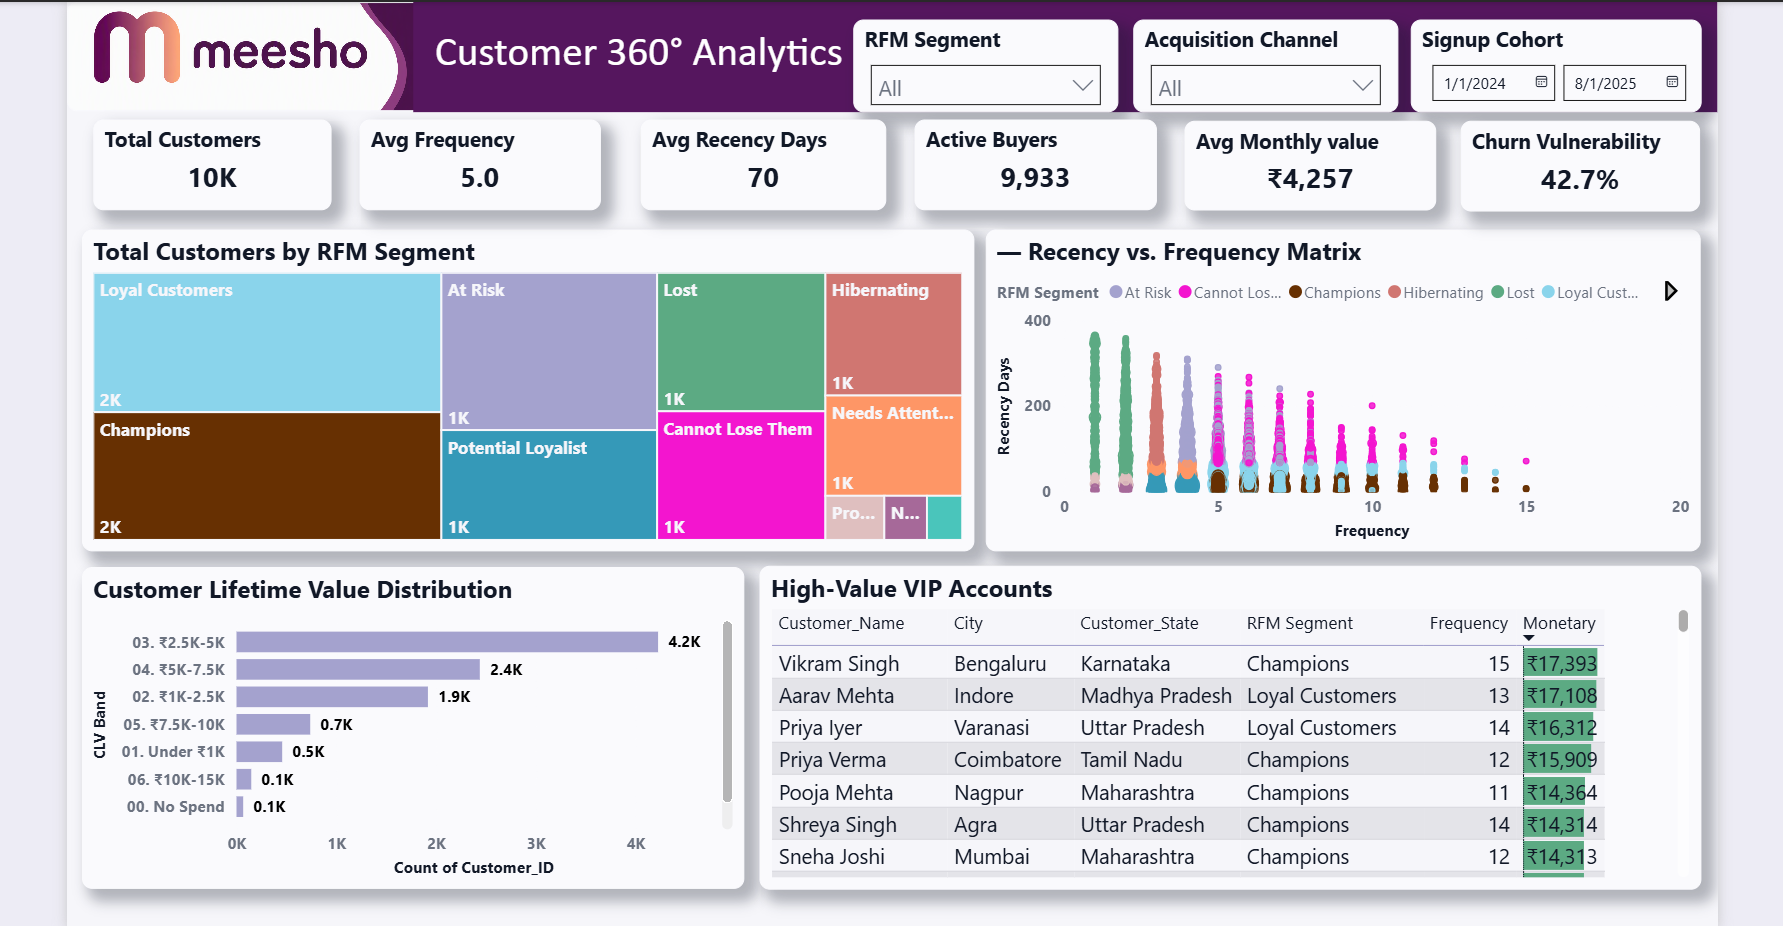

What the dashboard file says about the page in this screenshot:
{"tool":"powerbi","page":{"name":"Customer 360° Analytics","canvas":[1280,720],"ordinal":1},"visuals":[{"type":"image","box":[0,0,280.4,85.1],"z":0},{"type":"shape","box":[268.9,0,1011.3,85.4],"z":1000},{"type":"textbox","box":[280.5,13.7,329,54.8],"z":2000},{"type":"slicer","title":"RFM Segment","fields":{"Values":["meesho_customers.RFM Segment"]},"box":[609.5,13.7,205.6,71.7],"z":3000},{"type":"slicer","title":"Acquisition Channel","fields":{"Values":["meesho_customers.Acquisition_Channel"]},"box":[826.7,13.7,205.6,71.7],"z":4000},{"type":"slicer","title":"Signup Cohort","fields":{"Values":["meesho_customers.Signup Cohort"]},"box":[1041.8,13.7,225.7,71.7],"z":5000},{"type":"card","title":"Total Customers","fields":{"Values":["Metrics.Total Customers"]},"box":[20.4,91.1,184.6,70.7],"z":6000},{"type":"card","title":"Active Buyers","fields":{"Values":["Metrics.Active Buyers"]},"box":[656.8,91.1,188.2,70.7],"z":7000},{"type":"card","title":"Avg Monthly value","fields":{"Values":["Metrics.Average Monetary Value"]},"box":[866.5,92.3,195.4,69.5],"z":8000},{"type":"treemap","fields":{"Group":["meesho_customers.RFM Segment"],"Values":["Metrics.Total Customers"]},"box":[11.6,176.1,691.7,249.9],"z":9000},{"type":"scatterChart","title":"— Recency vs. Frequency Matrix","fields":{"X":["meesho_customers.Frequency"],"Y":["meesho_customers.Recency Days"],"Series":["meesho_customers.RFM Segment"],"Size":["CountNonNull(meesho_customers.Customer_ID)"]},"box":[712.8,176.1,554.7,249.9],"z":10000},{"type":"clusteredBarChart","title":"Customer Lifetime Value Distribution","fields":{"Y":["CountNonNull(meesho_customers.Customer_ID)"],"Category":["meesho_customers.CLV Band"]},"box":[11.5,438.6,513.6,249.6],"z":11000},{"type":"tableEx","title":"High-Value VIP Accounts","fields":{"Values":["meesho_customers.Customer_Name","meesho_customers.City","meesho_customers.Customer_State","meesho_customers.RFM Segment","meesho_customers.Frequency","meesho_customers.Monetary"]},"box":[536.7,437.2,730,251],"z":12000},{"type":"card","title":"Avg Recency  Days","fields":{"Values":["Metrics.Avg Recency Days"]},"box":[444.6,91.1,190.6,70.7],"z":13000},{"type":"card","title":"Churn Vulnerability","fields":{"Values":["Metrics.Churn Vulnerability %"]},"box":[1081,92.3,185.8,70.7],"z":14000},{"type":"card","title":"Avg Frequency","fields":{"Values":["Metrics.Avg Frequency"]},"box":[226.5,91.1,187,70.7],"z":15000}]}

Visuals, with their boxes on the page's 1280x720 design canvas (x1, y1, x2, y2). These are canvas units, not pixel positions in the 1783x926 screenshot, which may show the page scaled, cropped or inside an application window:
image: (x1=0, y1=0, x2=280, y2=85)
shape: (x1=269, y1=0, x2=1280, y2=85)
textbox: (x1=280, y1=14, x2=610, y2=68)
"RFM Segment" slicer: (x1=610, y1=14, x2=815, y2=85)
"Acquisition Channel" slicer: (x1=827, y1=14, x2=1032, y2=85)
"Signup Cohort" slicer: (x1=1042, y1=14, x2=1268, y2=85)
"Total Customers" card: (x1=20, y1=91, x2=205, y2=162)
"Active Buyers" card: (x1=657, y1=91, x2=845, y2=162)
"Avg Monthly value" card: (x1=866, y1=92, x2=1062, y2=162)
treemap - meesho_customers.RFM Segment x Metrics.Total Customers: (x1=12, y1=176, x2=703, y2=426)
"— Recency vs. Frequency Matrix" scatterChart: (x1=713, y1=176, x2=1268, y2=426)
"Customer Lifetime Value Distribution" clusteredBarChart: (x1=12, y1=439, x2=525, y2=688)
"High-Value VIP Accounts" tableEx: (x1=537, y1=437, x2=1267, y2=688)
"Avg Recency  Days" card: (x1=445, y1=91, x2=635, y2=162)
"Churn Vulnerability" card: (x1=1081, y1=92, x2=1267, y2=163)
"Avg Frequency" card: (x1=226, y1=91, x2=414, y2=162)
